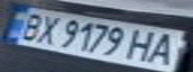1: (72, 19, 96, 52)
7: (87, 21, 109, 55)
9: (54, 17, 81, 51), (106, 24, 130, 58)
A: (142, 30, 190, 66)
B: (12, 10, 48, 42)
H: (124, 26, 163, 63)
X: (30, 12, 66, 46)
